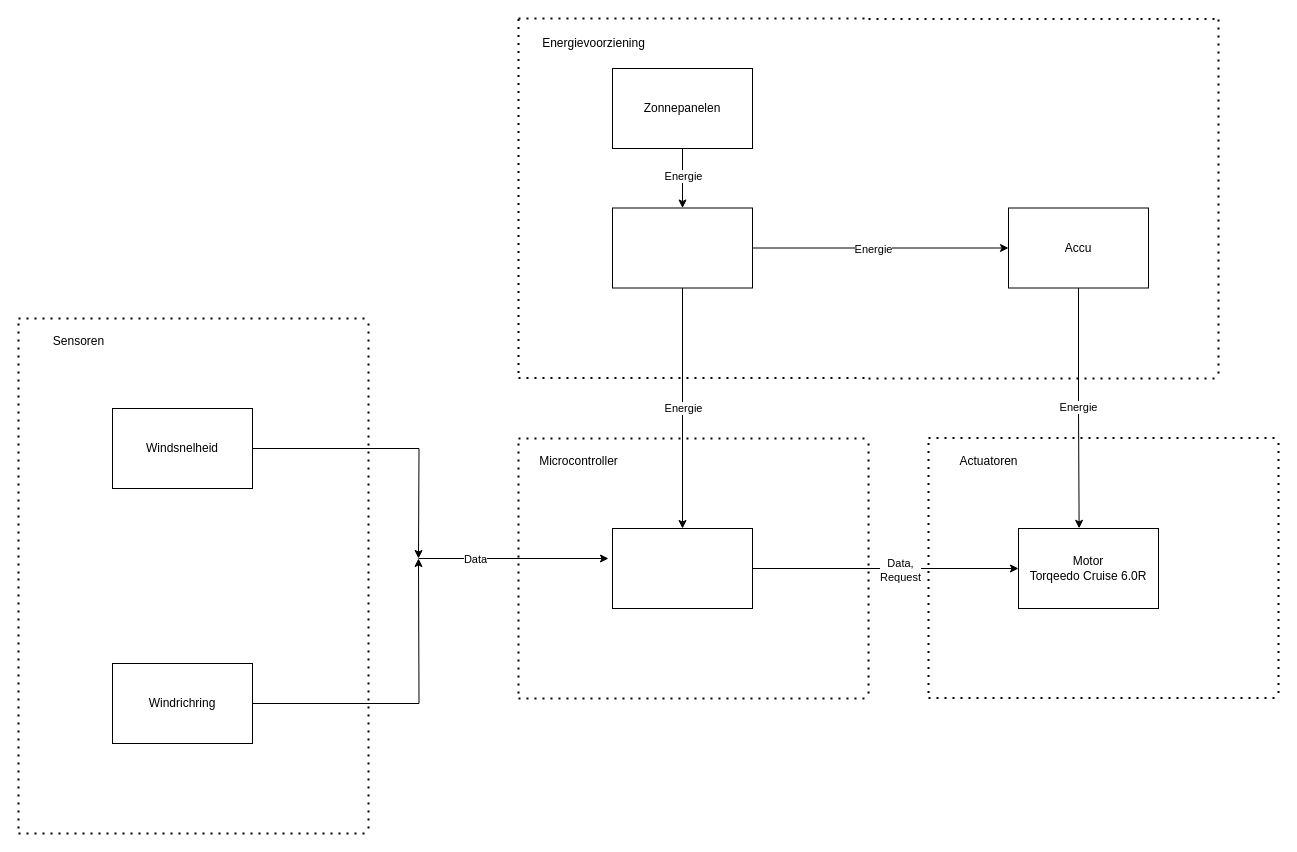
This 1297x852 diagram has some shape labels left out. The shapes that lost their labels are listed below. From the top down, each one's box as (x1, y1, x2, y2) in pixels, then its label:
(612, 207, 752, 288): Stroomkast
(612, 528, 752, 608): Raspberry PI 4
